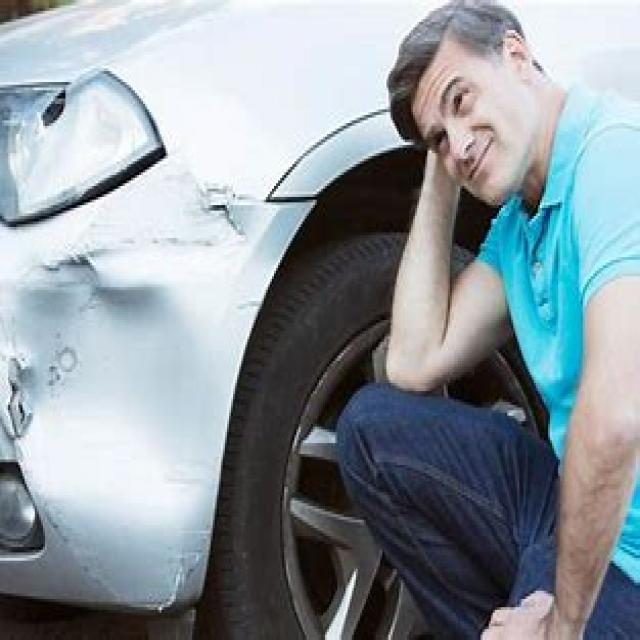Accident: (30, 56, 356, 554)
